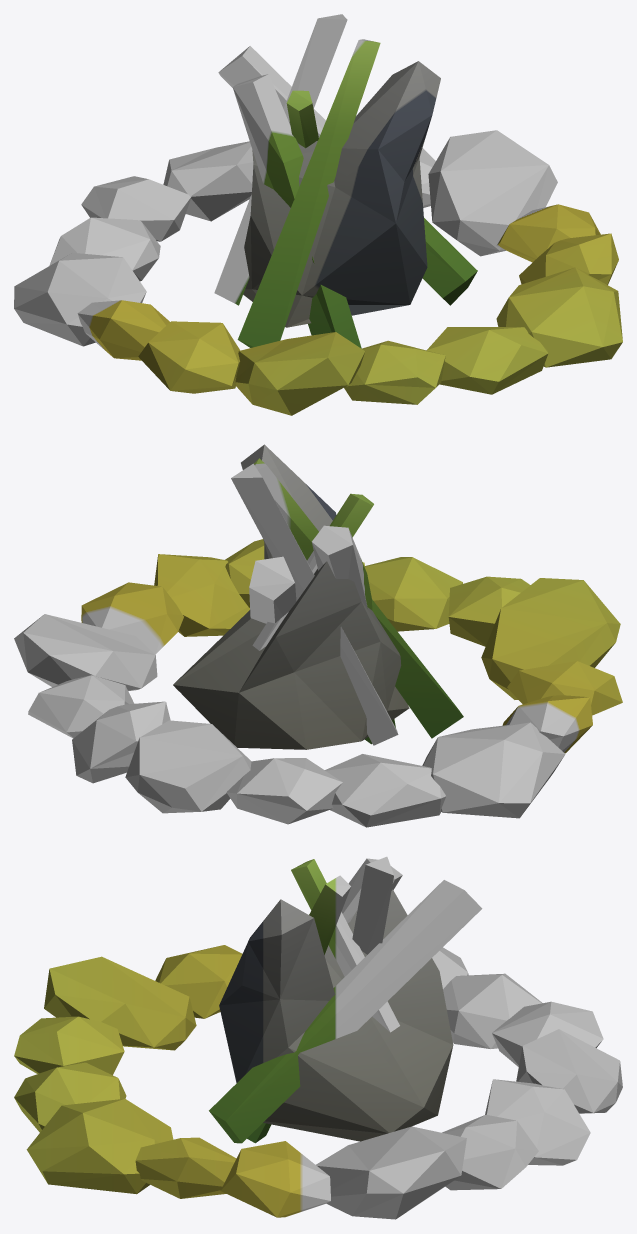
Rendered from Fire_02.fbx.
3 views of the same model, one above another, from view 1: azimuth 30°, elevation 25°; view 2: azimuth 150°, elevation 25°; view 3: azimuth 270°, elevation 25° (orthographic). The views are drawn at different scales.
Visible parts, largest first — view 1: Fire_02; view 2: Fire_02; view 3: Fire_02.
Part boxes in pixels (x1,y1,x2,y2): Fire_02: [14, 14, 622, 415]; Fire_02: [14, 444, 622, 827]; Fire_02: [14, 856, 622, 1219].
Bounding box in the file's own units: 2.84 × 1.55 × 2.78.
